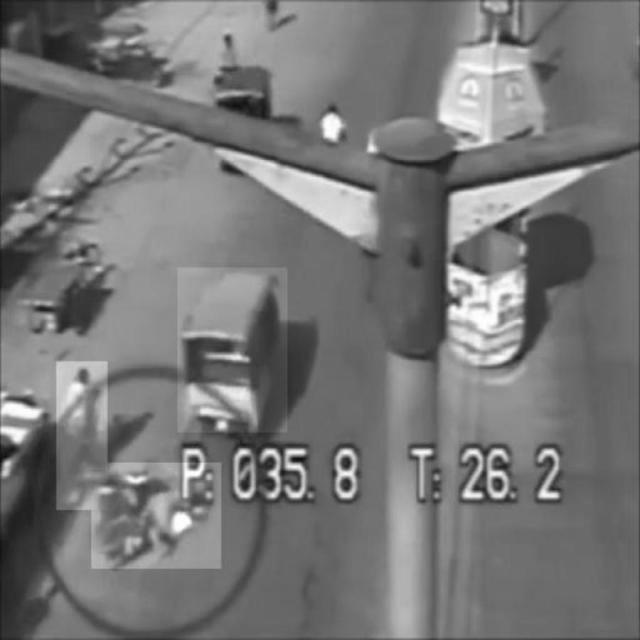vehicle: (178, 268, 288, 433), (92, 463, 222, 569), (57, 362, 108, 510)
